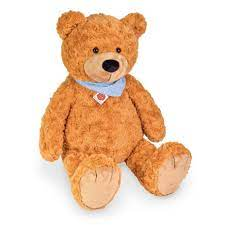teddy: (29, 5, 202, 214)
